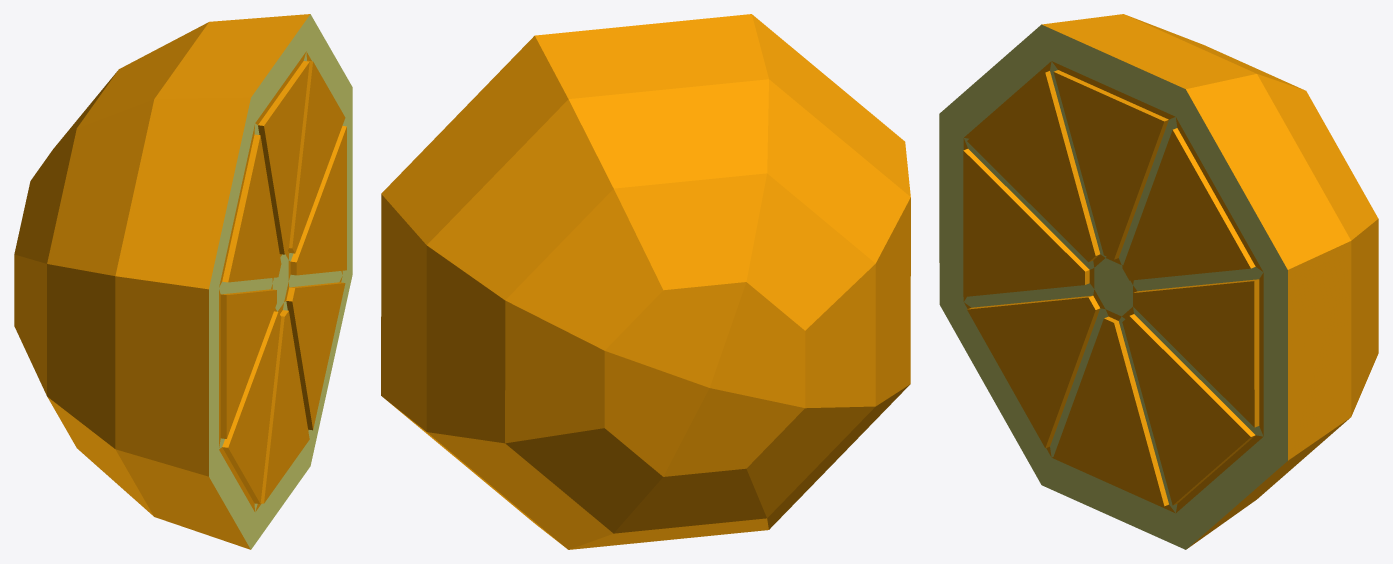
File: Orange_Half.fbx
3 views of the same model, side by side, from view 1: azimuth 30°, elevation 25°; view 2: azimuth 150°, elevation 25°; view 3: azimuth 270°, elevation 25° (orthographic). The views are drawn at different scales.
Visible parts, largest first — view 1: HOrange; view 2: HOrange; view 3: HOrange.
Boxes of the visible parts, x1,y1,x2,y2 form: HOrange: [14, 14, 352, 549]; HOrange: [381, 14, 910, 549]; HOrange: [939, 14, 1378, 549].
Bounding box in the file's own units: 7.09 × 8.02 × 6.92.
